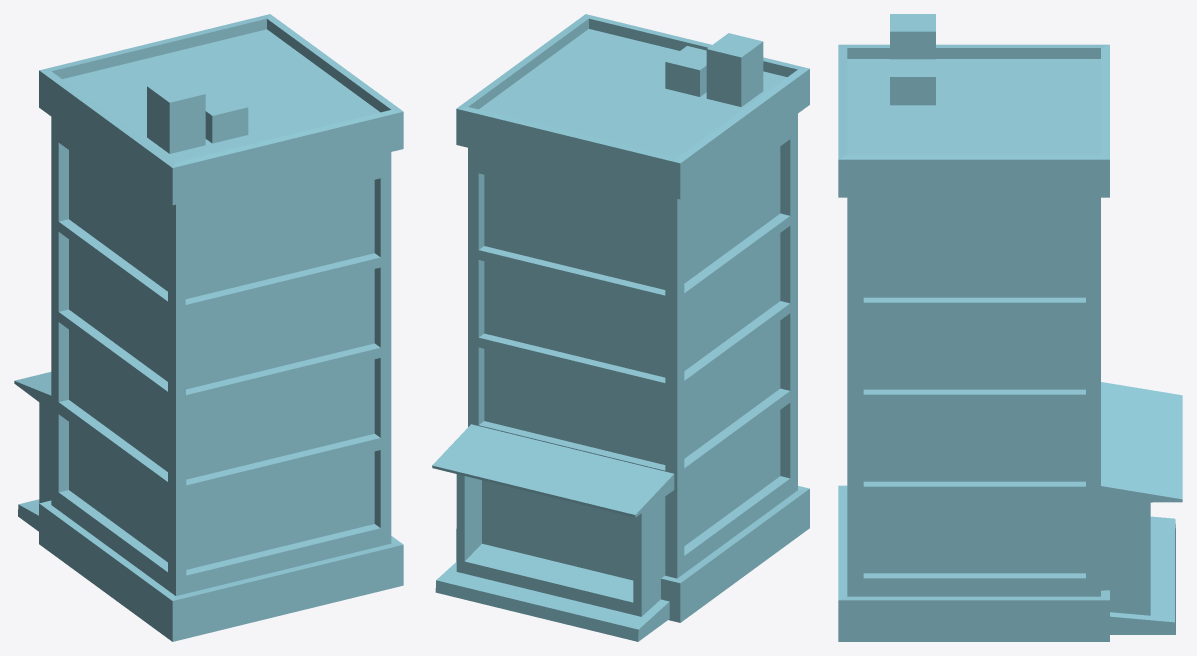
File: houses1.glb
3 renders of one model, left to right at view 1: azimuth 30°, elevation 25°; view 2: azimuth 150°, elevation 25°; view 3: azimuth 270°, elevation 25°, orthographic. The views are drawn at different scales.
Parts seen in each view (by area): view 1: House_3.003; view 2: House_3.003; view 3: House_3.003.
Part boxes in pixels (x1,y1,x2,y2): House_3.003: (14,14,403,641); House_3.003: (432,14,809,641); House_3.003: (838,14,1182,641).
Bounding box in the file's own units: 2.32 × 4.93 × 2.93.
